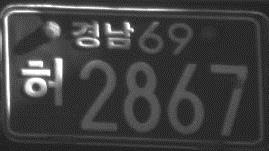2: (79, 58, 119, 134)
6: (165, 62, 204, 136), (137, 19, 164, 54)
7: (207, 62, 249, 136)
8: (123, 60, 161, 133)
9: (166, 20, 195, 57)
경남_O: (70, 19, 135, 51)
허: (20, 55, 65, 108)
